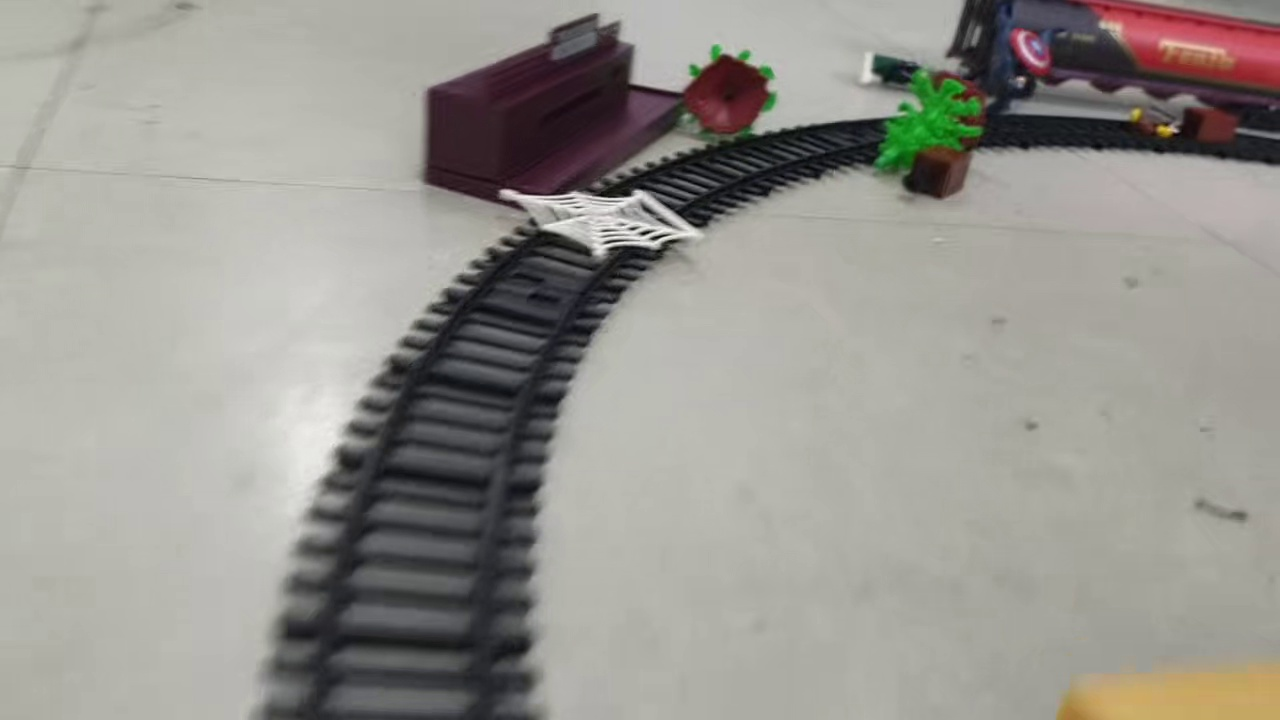box: (900, 142, 974, 201), (1180, 107, 1238, 146)
people: (975, 3, 1058, 114), (860, 50, 951, 87), (1128, 98, 1201, 142)
tree: (871, 70, 987, 174), (679, 45, 778, 137)
web: (498, 181, 706, 259)
